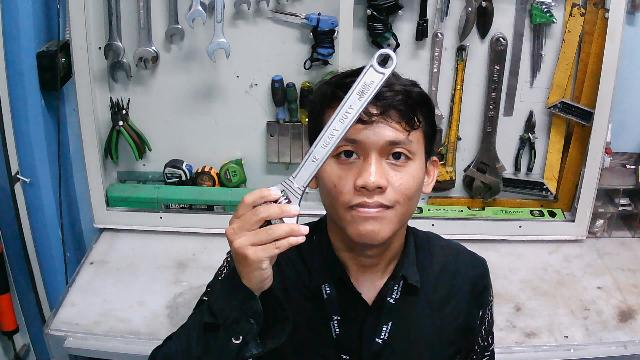kunci_inggris: (247, 44, 398, 251)
